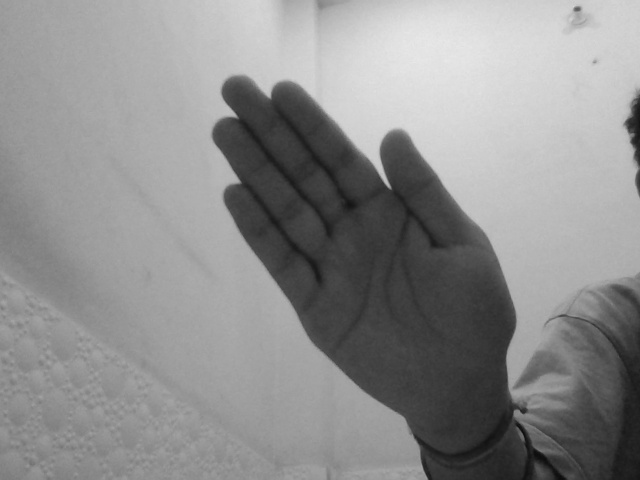Hello: (203, 69, 520, 437)
